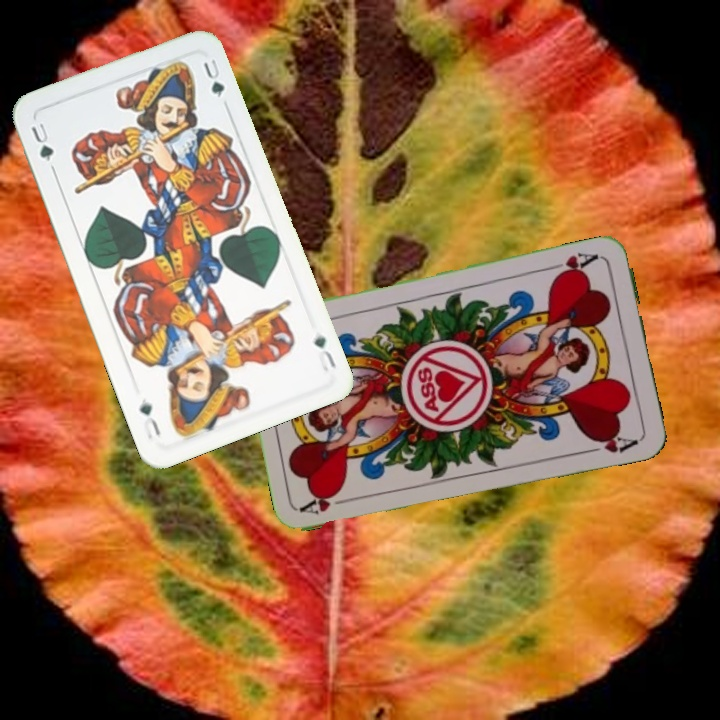GU: (310, 327, 339, 374), (27, 118, 56, 164)
HA: (545, 248, 603, 280), (298, 487, 357, 517)
